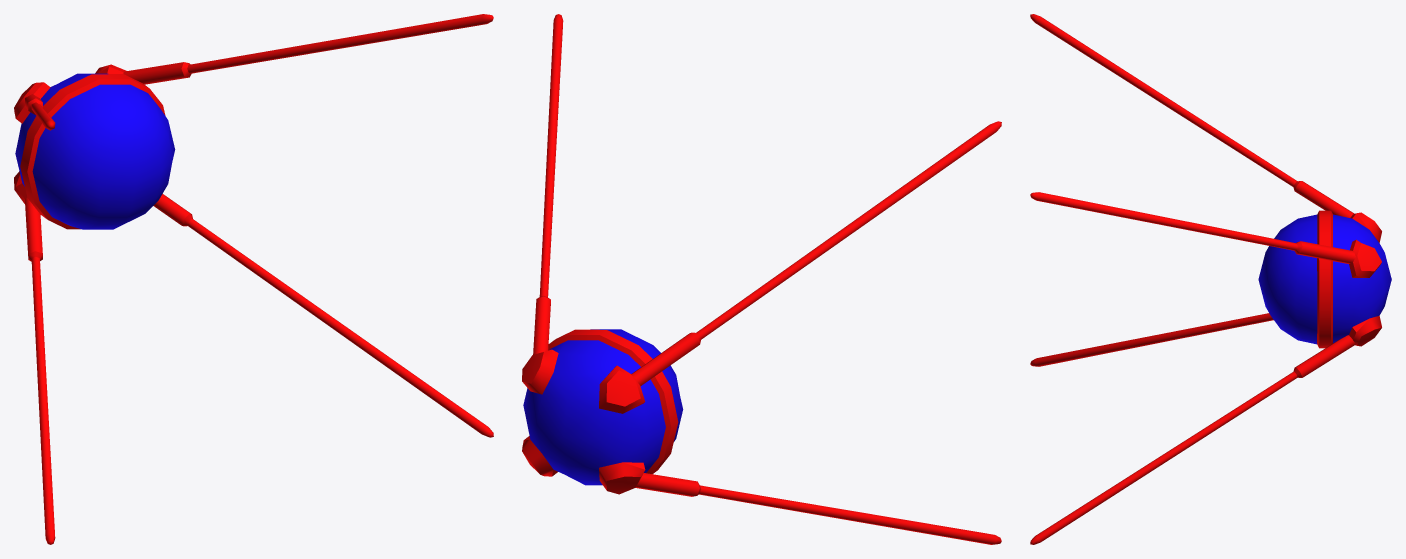
File: Emitter.FBX
3 renders of one model, left to right at view 1: azimuth 30°, elevation 25°; view 2: azimuth 150°, elevation 25°; view 3: azimuth 270°, elevation 25°, orthographic. The views are drawn at different scales.
Parts seen in each view (by area): view 1: Box001; view 2: Box001; view 3: Box001.
Part boxes in pixels (box(x1,y1,x2,y2)): Box001: box(14, 14, 493, 544); Box001: box(522, 14, 1001, 544); Box001: box(1030, 14, 1391, 544).
Bounding box in the file's own units: 127 × 115 × 107.
